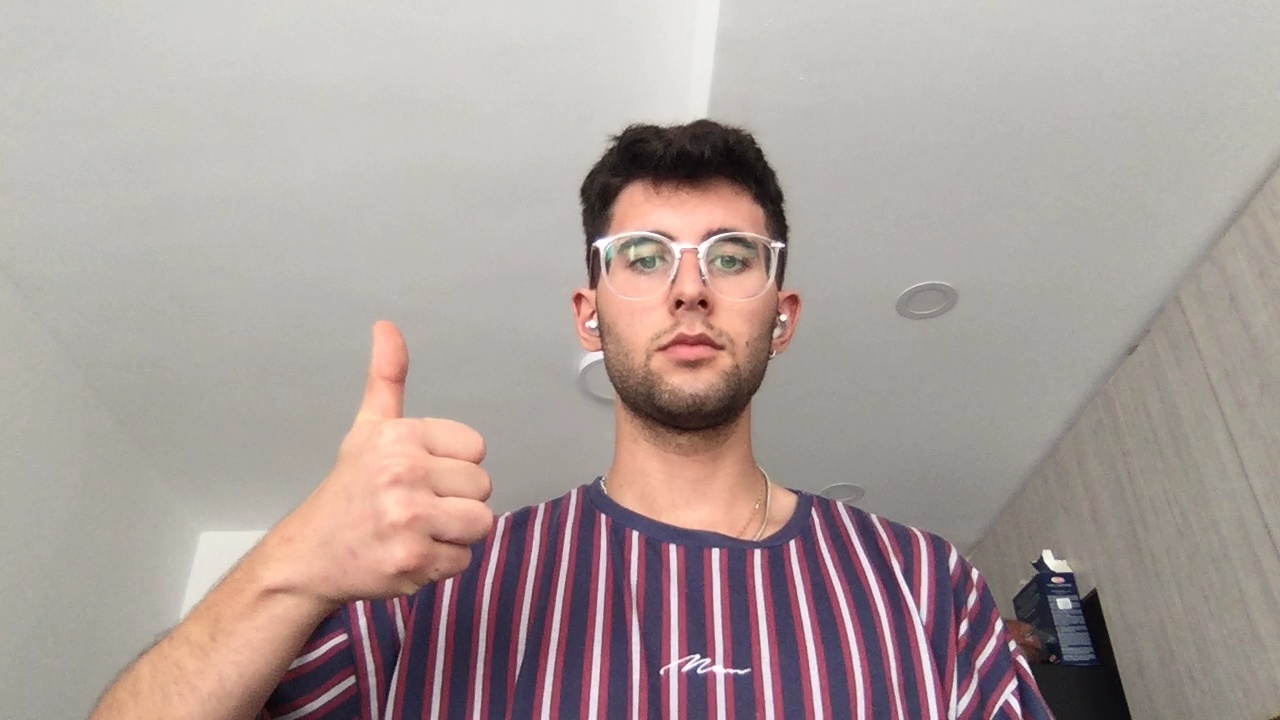good: (316, 310, 497, 598)
